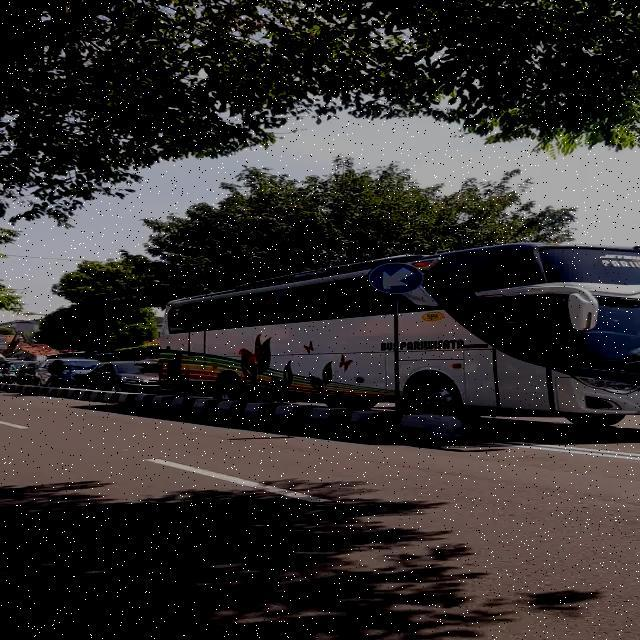Lajur Kiri: (368, 262, 424, 294)
